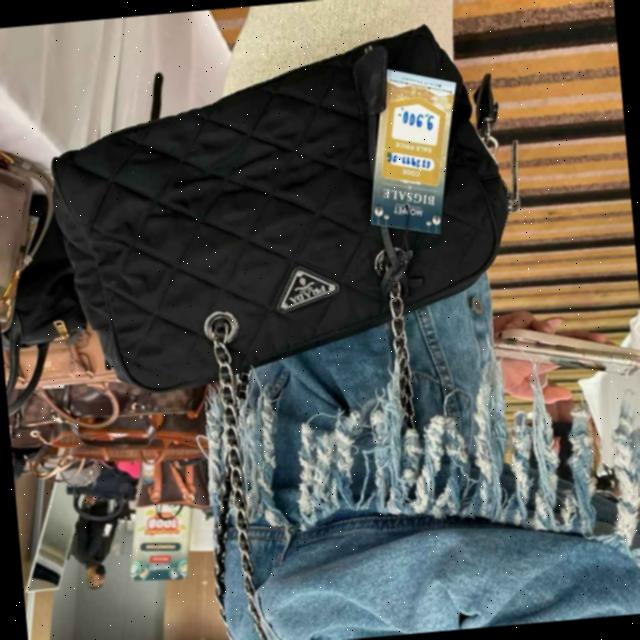Handbag: (40, 0, 552, 412)
